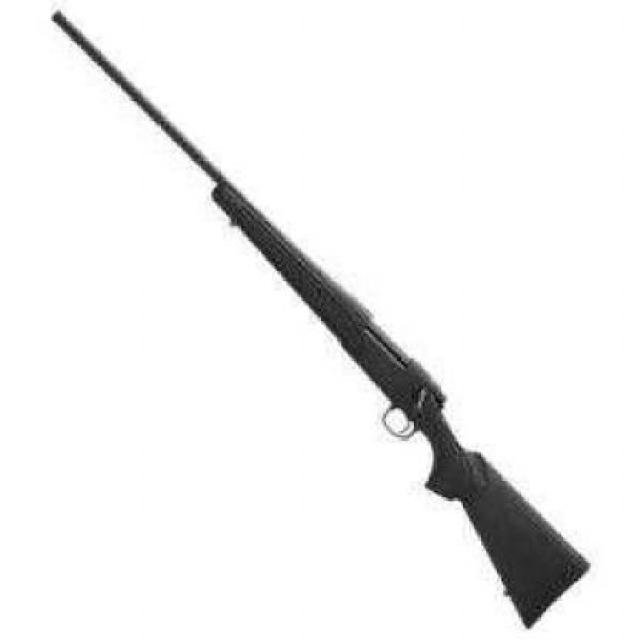weapon: (54, 0, 595, 625)
